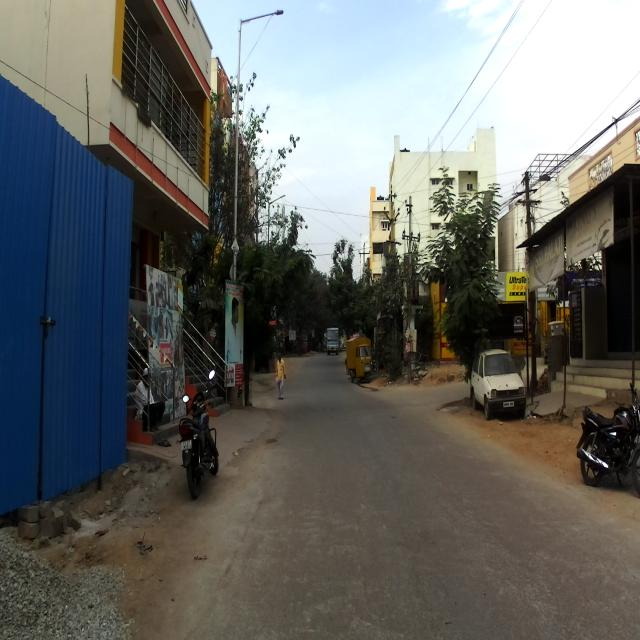car ahead at: (467, 341, 531, 434)
motorcycle ahead at: (569, 372, 640, 491), (176, 368, 219, 497)
